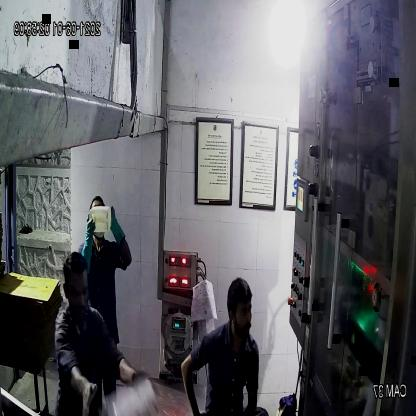no_goggles: (64, 282, 94, 303), (230, 302, 255, 323)
